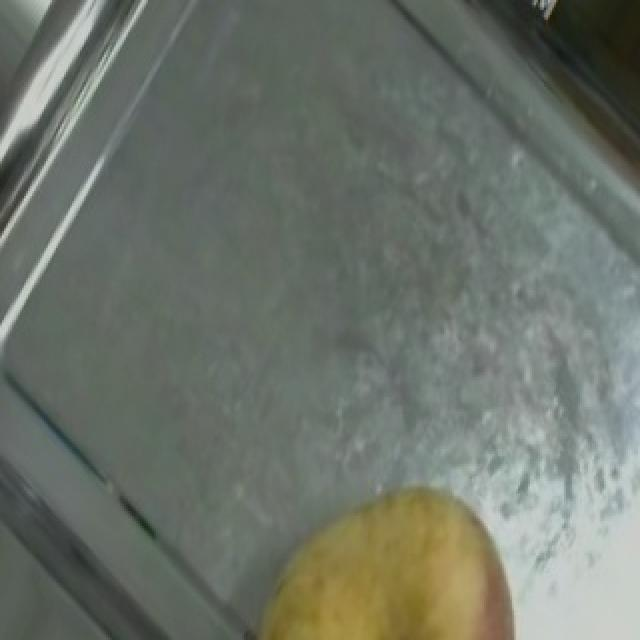Fruit: (224, 454, 548, 640)
